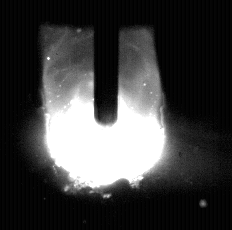arame: (95, 0, 120, 128)
poca: (44, 0, 169, 230)
